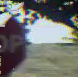Stop: (0, 7, 30, 76)
